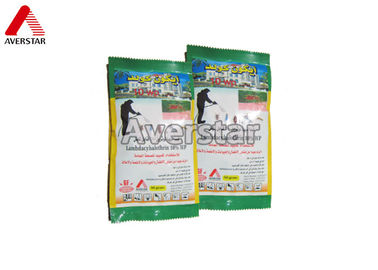Insecticide: (103, 53, 203, 224), (180, 42, 275, 214)
